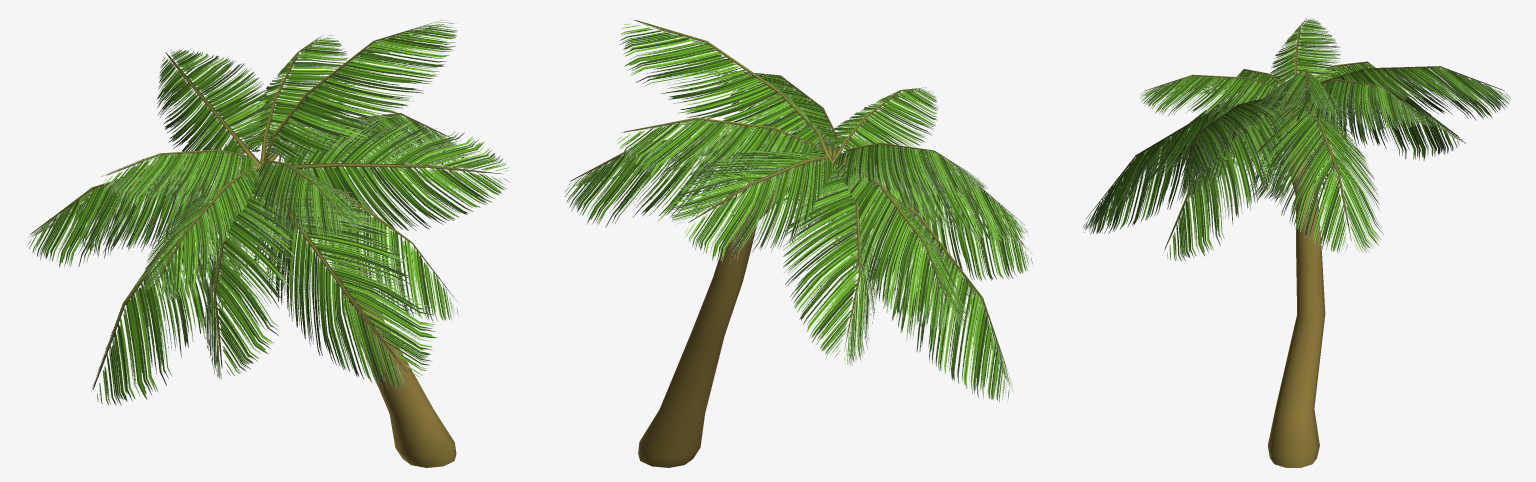
The model's file is PalmTree01.dae.
3 renders of one model, left to right at view 1: azimuth 30°, elevation 25°; view 2: azimuth 150°, elevation 25°; view 3: azimuth 270°, elevation 25°, orthographic. The views are drawn at different scales.
Visible parts, largest first — view 1: Leaves, Trunk; view 2: Leaves, Trunk; view 3: Leaves, Trunk.
Part boxes in pixels (bbox=[...]): Leaves: bbox=[27, 19, 510, 405]; Trunk: bbox=[260, 172, 456, 467]; Leaves: bbox=[564, 19, 1033, 402]; Trunk: bbox=[638, 163, 843, 467]; Leaves: bbox=[1083, 17, 1510, 261]; Trunk: bbox=[1267, 106, 1325, 467].
Bounding box in the file's own units: 8.92 × 9.24 × 8.45.
2 materials, 1 textured.
